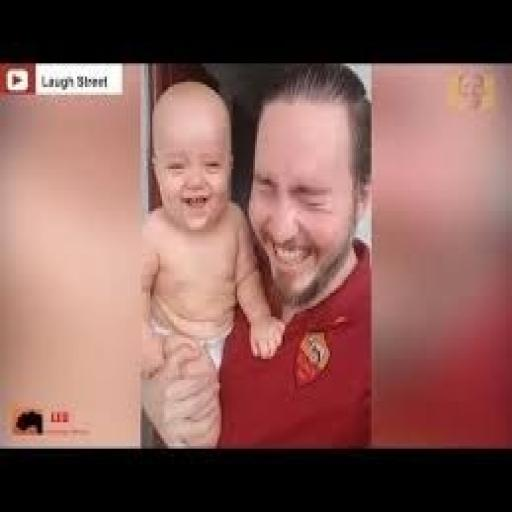laughing: (134, 58, 378, 446)
